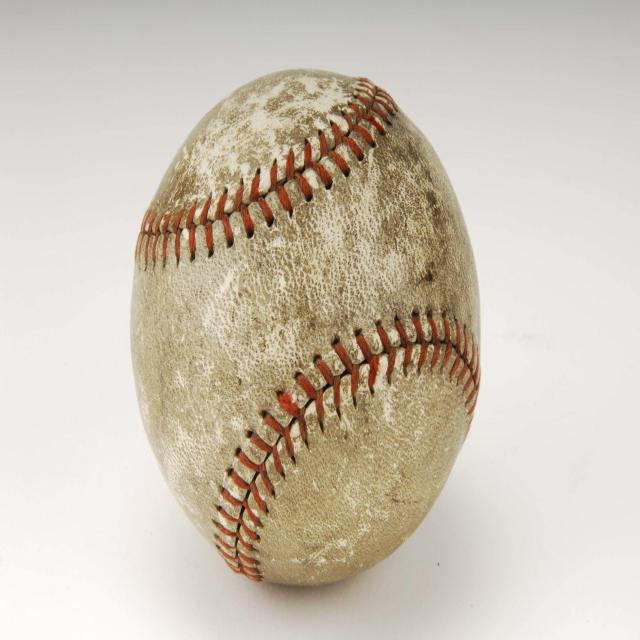baseball: (130, 65, 483, 587)
